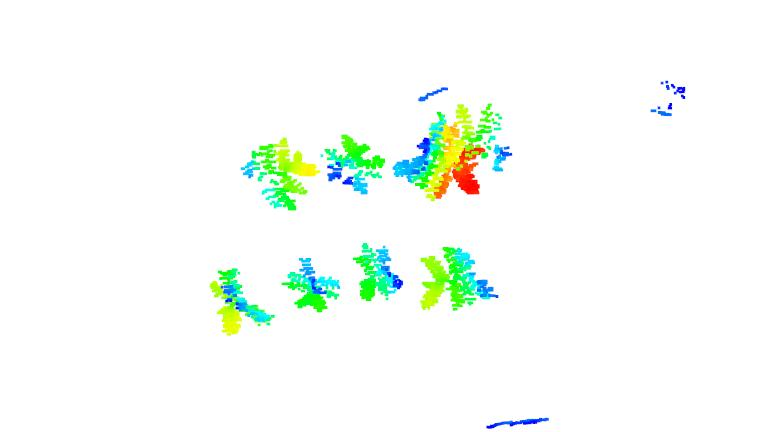chickpea: (392, 102, 507, 203), (238, 133, 318, 212), (418, 243, 501, 314), (208, 264, 277, 337), (317, 132, 388, 198), (282, 254, 341, 315), (348, 241, 404, 301)
